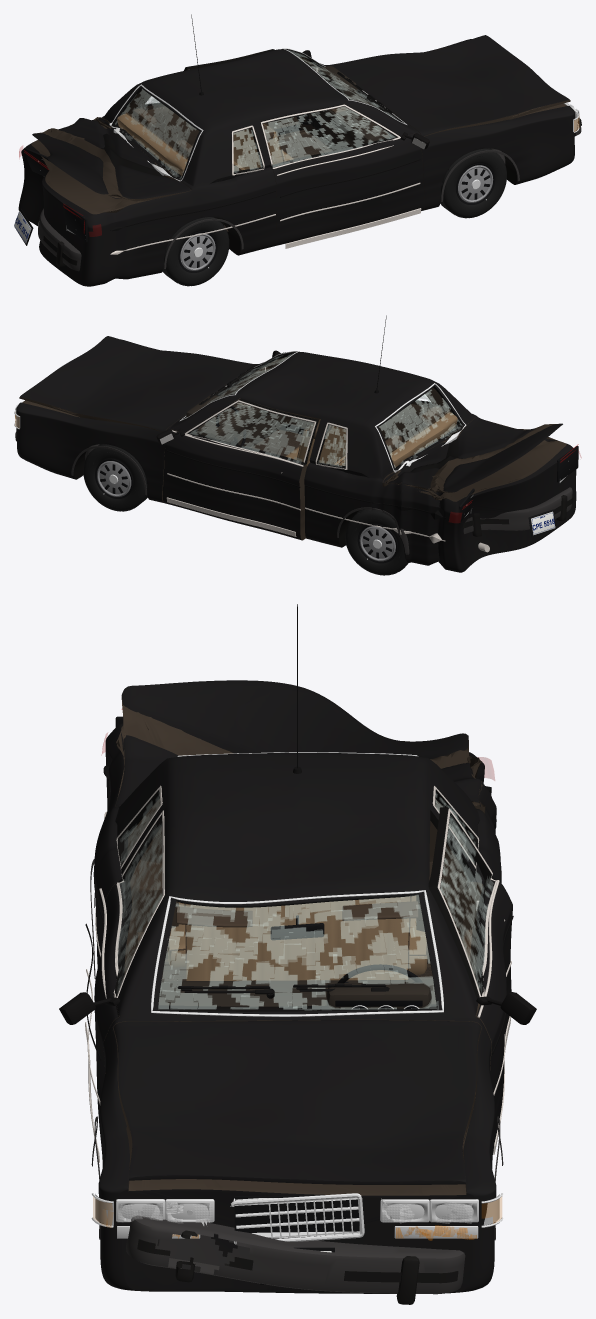
File: coupe84_rear_corner_d1.glb
3 views of the same model, one above another, from view 1: azimuth 30°, elevation 25°; view 2: azimuth 150°, elevation 25°; view 3: azimuth 270°, elevation 25° (orthographic). The views are drawn at different scales.
Parts seen in each view (by area): view 1: Body, Hood, Door_FR, Trunk, Interior, Glass, Glass_FR, Wheel_FR_mesh, Wheel_RR_mesh, Trim_FR, Trim, Ends (+2 smaller); view 2: Body, Hood, Door_FL, Trunk, Interior, Glass, Wheel_FL_mesh, Wheel_RL_mesh, Glass_FL, Trim_FL, Trim, Bumper_R (+2 smaller); view 3: Body, Hood, Interior, Glass, Trunk, Bumper_F, Ends, Door_FL, Door_FR, Glass_FL, Trim, Trim_FL (+4 smaller).
Part boxes in pixels (x1,y1,x2,y2): Body: (18, 39, 574, 286); Hood: (328, 35, 570, 136); Door_FR: (260, 104, 424, 245); Trunk: (32, 118, 191, 201); Interior: (117, 66, 393, 175); Glass: (109, 48, 406, 181); Glass_FR: (261, 104, 397, 169); Wheel_FR_mesh: (440, 148, 506, 218); Wheel_RR_mesh: (162, 217, 229, 286); Trim_FR: (260, 104, 429, 248); Trim: (110, 14, 519, 268); Ends: (14, 81, 579, 245); Body: (16, 339, 576, 572); Hood: (19, 336, 255, 432); Door_FL: (163, 398, 318, 540); Trunk: (385, 417, 562, 495); Interior: (186, 372, 457, 467); Glass: (179, 351, 466, 472); Wheel_FL_mesh: (83, 444, 147, 511); Wheel_RL_mesh: (345, 509, 408, 575); Glass_FL: (188, 400, 316, 467); Trim_FL: (156, 400, 316, 536); Trim: (71, 315, 445, 554); Bumper_R: (463, 487, 573, 536); Body: (94, 723, 500, 1293); Hood: (113, 1020, 481, 1184); Interior: (158, 895, 436, 1009); Glass: (120, 752, 475, 1016); Trunk: (115, 680, 483, 806); Bumper_F: (126, 1215, 465, 1304); Ends: (91, 716, 503, 1284); Door_FL: (428, 807, 512, 1154); Door_FR: (94, 809, 165, 1150); Glass_FL: (436, 815, 496, 991); Trim: (90, 604, 503, 1240); Trim_FL: (437, 808, 536, 1154).
Size of the model in its own units: 5.19 by 2.15 by 2.13.
Materials: 34 (5 with a texture image).
